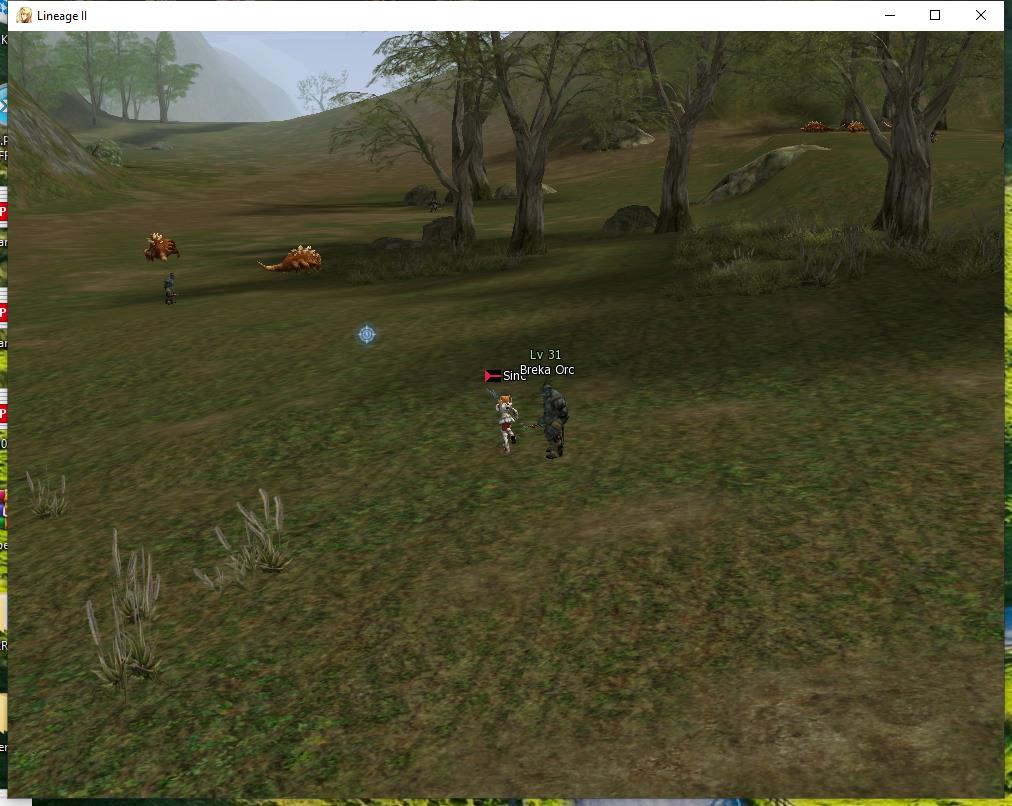monster: (518, 340, 602, 452), (248, 223, 326, 284), (129, 226, 184, 264), (160, 274, 191, 308)
